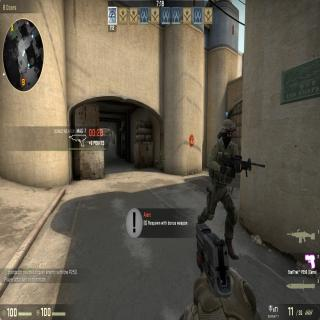CT-Body: (205, 118, 239, 258)
CT-Head: (219, 116, 235, 151)
